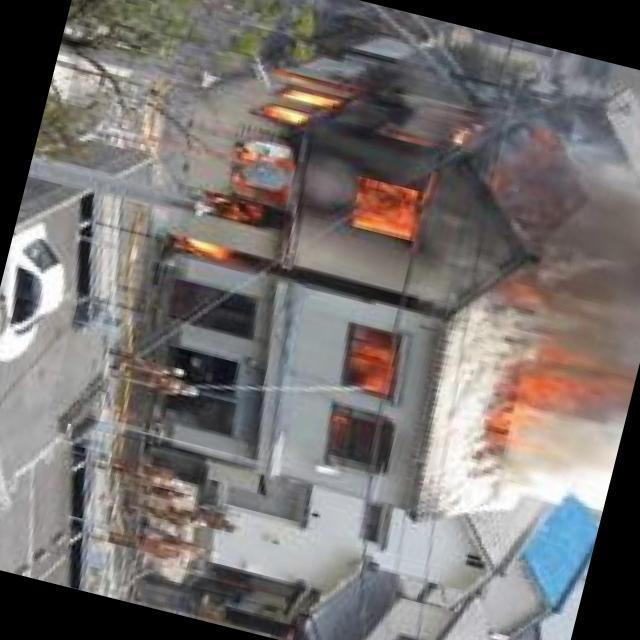Fire: (168, 42, 474, 315), (482, 311, 636, 491), (318, 320, 400, 458)
